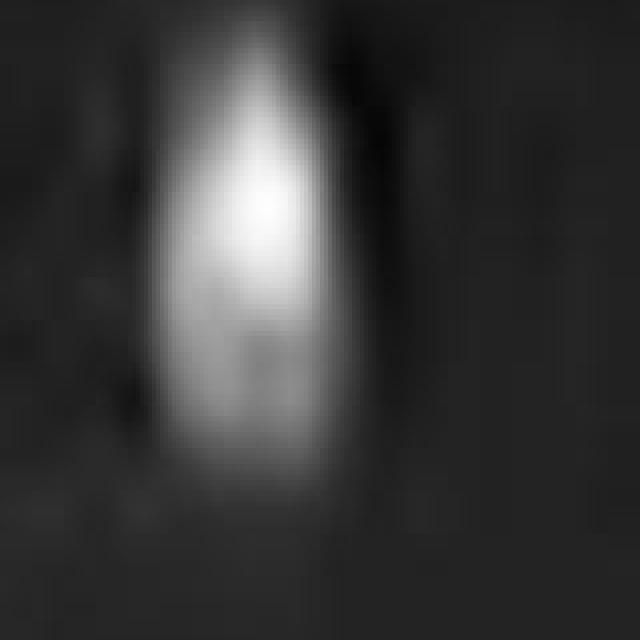person: (146, 42, 355, 522)
